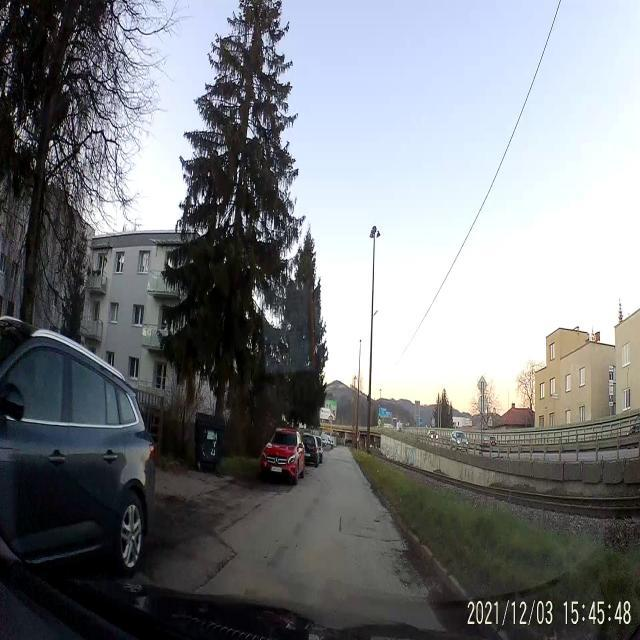Pothole: (388, 544, 426, 588), (338, 514, 343, 533), (374, 518, 381, 523), (263, 556, 267, 560)
